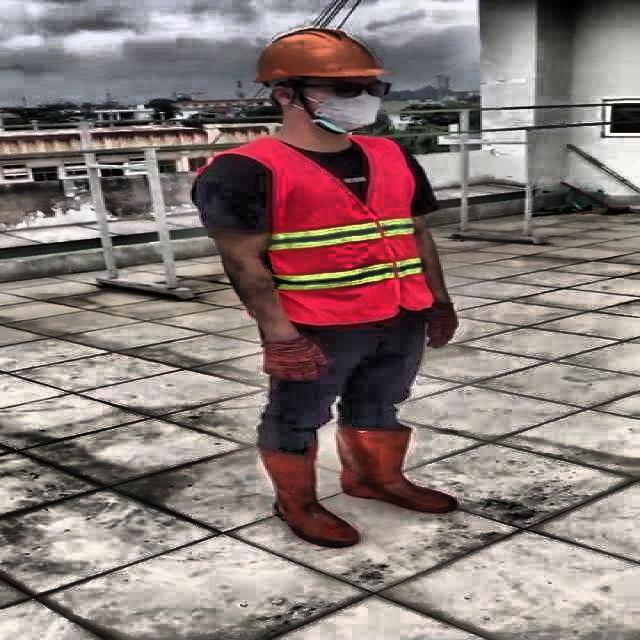safety_helmet: (244, 26, 387, 80)
safety_jacket: (261, 135, 425, 326)
